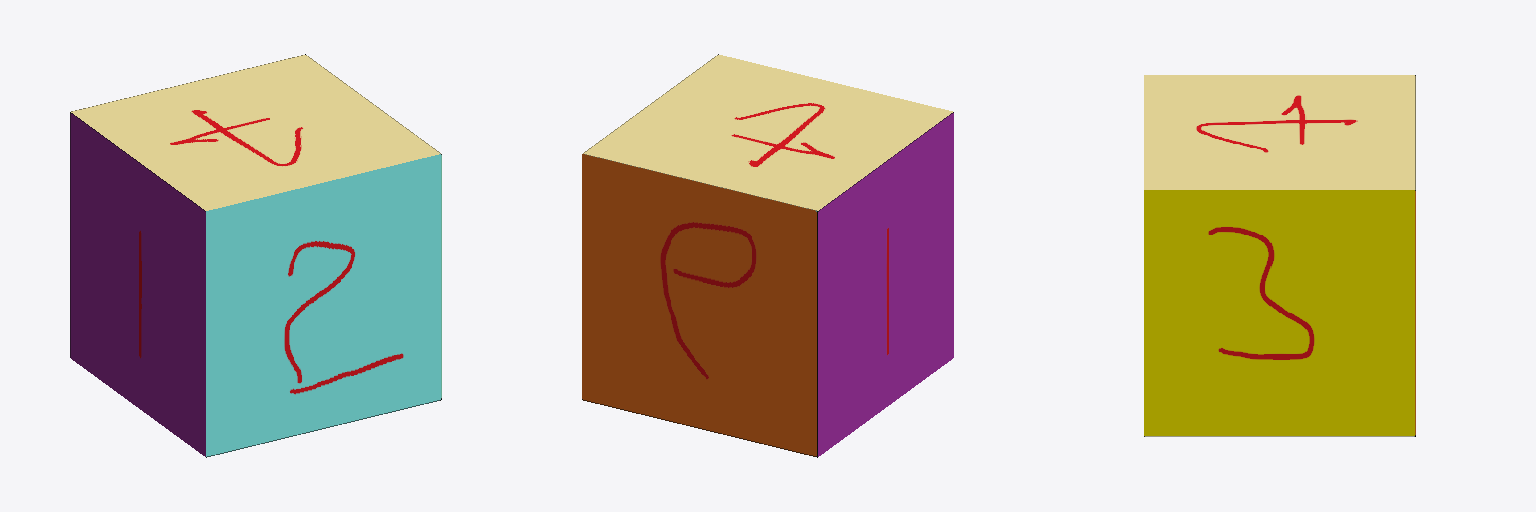
3 renders of one model, left to right at view 1: azimuth 30°, elevation 25°; view 2: azimuth 150°, elevation 25°; view 3: azimuth 270°, elevation 25°, orthographic.
Visible parts, largest first — view 1: Cube; view 2: Cube; view 3: Cube.
Part boxes in pixels (x1,y1,x2,y2): Cube: (70,54,441,457); Cube: (582,54,953,457); Cube: (1144,75,1415,436).
Bounding box in the file's own units: 2 × 2 × 2.
1 materials, 1 textured.